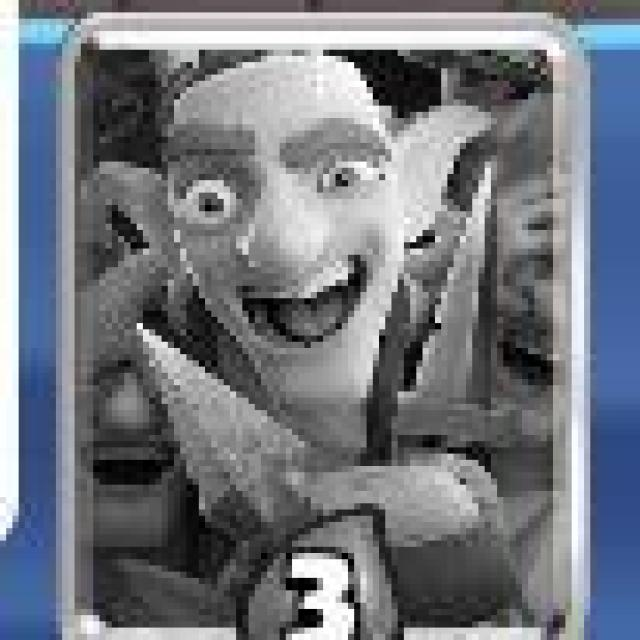Goblin_Gang: (61, 14, 588, 636)
